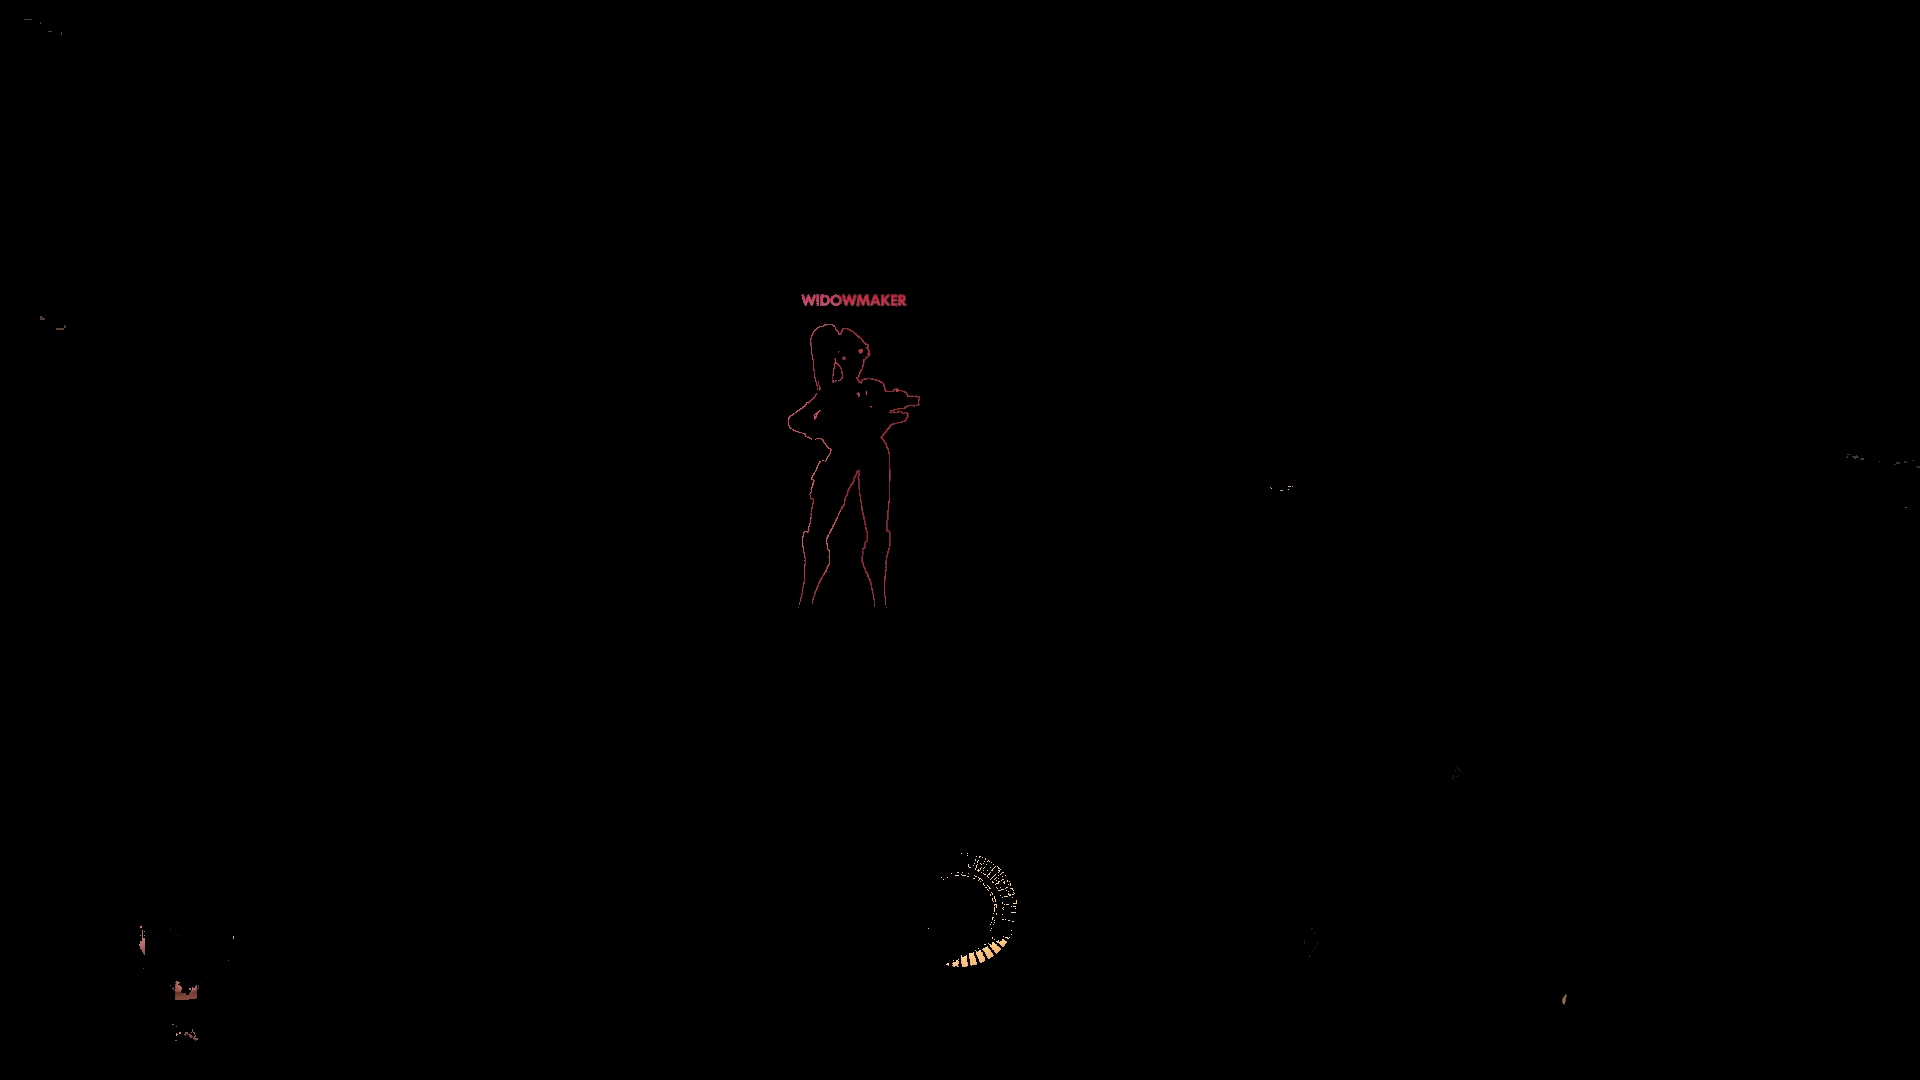widowmaker: (789, 324, 920, 651)
